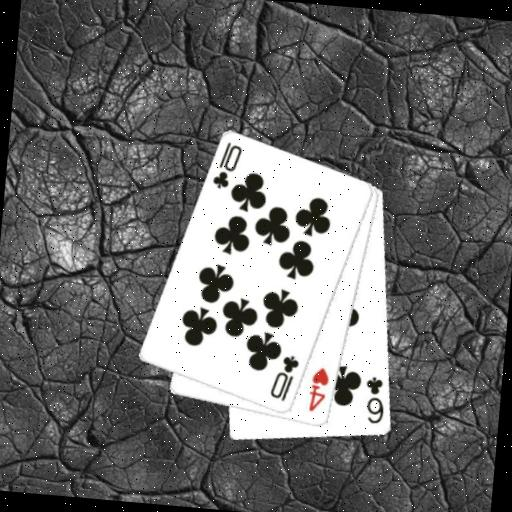10C: (209, 138, 245, 193), (266, 351, 302, 405)
4H: (305, 365, 332, 415)
6C: (360, 374, 389, 427)
